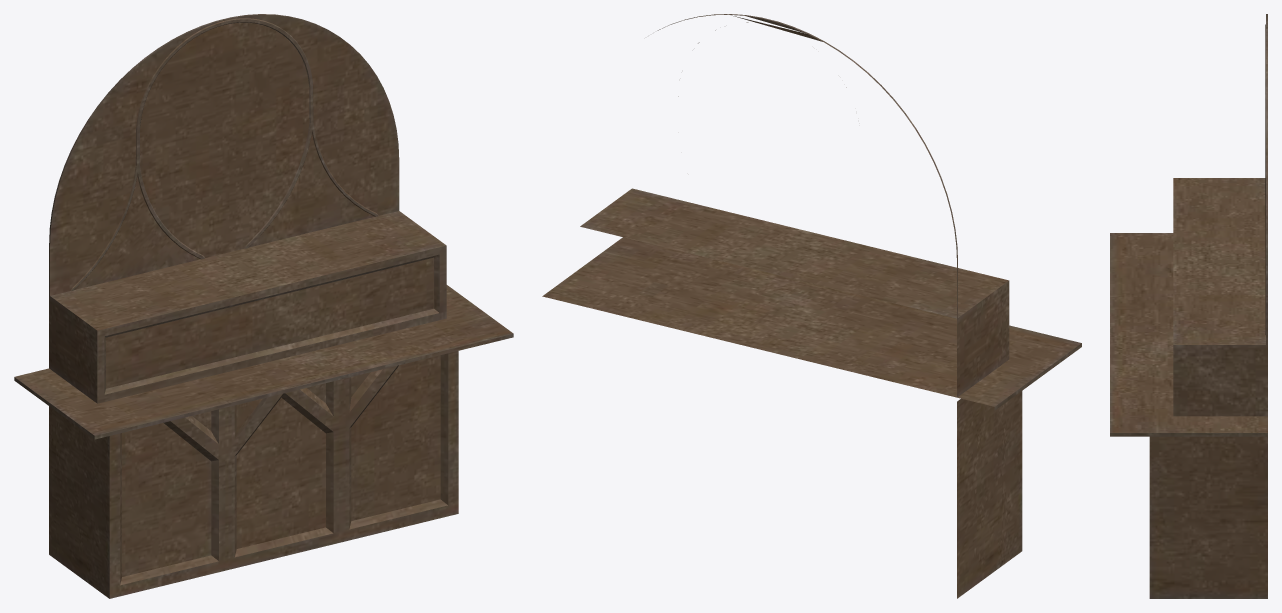
Rendered from altar.glb.
3 renders of one model, left to right at view 1: azimuth 30°, elevation 25°; view 2: azimuth 150°, elevation 25°; view 3: azimuth 270°, elevation 25°, orthographic. The views are drawn at different scales.
Parts seen in each view (by area): view 1: old_alter; view 2: old_alter; view 3: old_alter.
Part boxes in pixels (x1,y1,x2,y2): old_alter: [14, 14, 513, 598]; old_alter: [542, 14, 1081, 598]; old_alter: [1110, 14, 1267, 598].
Size of the model in its own units: 1.78 by 2 by 0.5928.
1 material, 1 textured.
